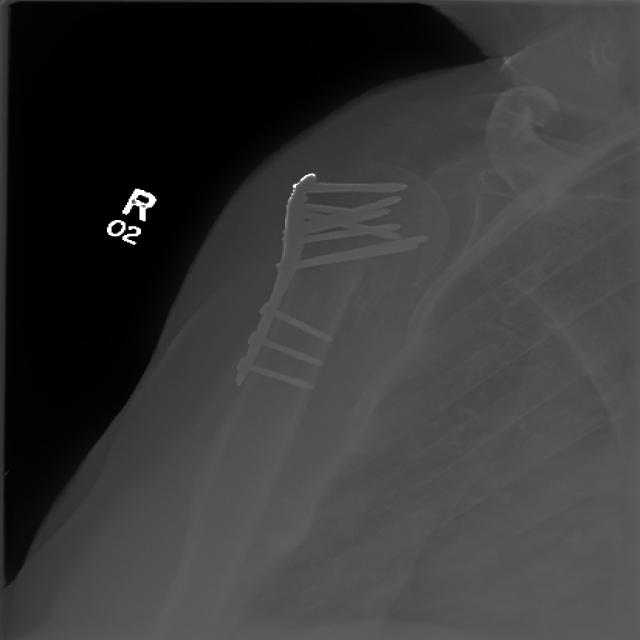shoulder fracture: (323, 253, 390, 318)
